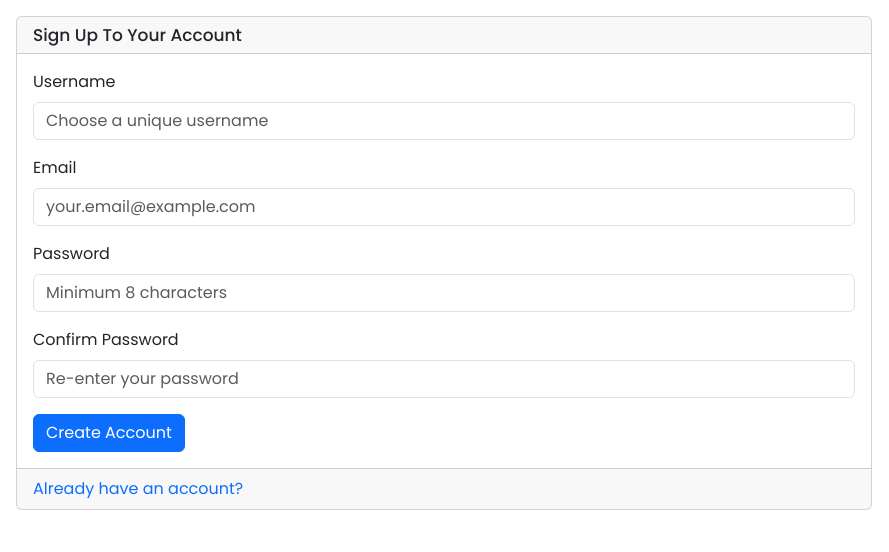
Test: RegisterUser › 🎭 Interactions — Zod validation (onTouched) › shows error when username is shorter than 3 characters
The width and height of the screenshot is (889, 552).
Type "ab" into the field labelled "Username" at [444, 121], box [33, 102, 855, 140]
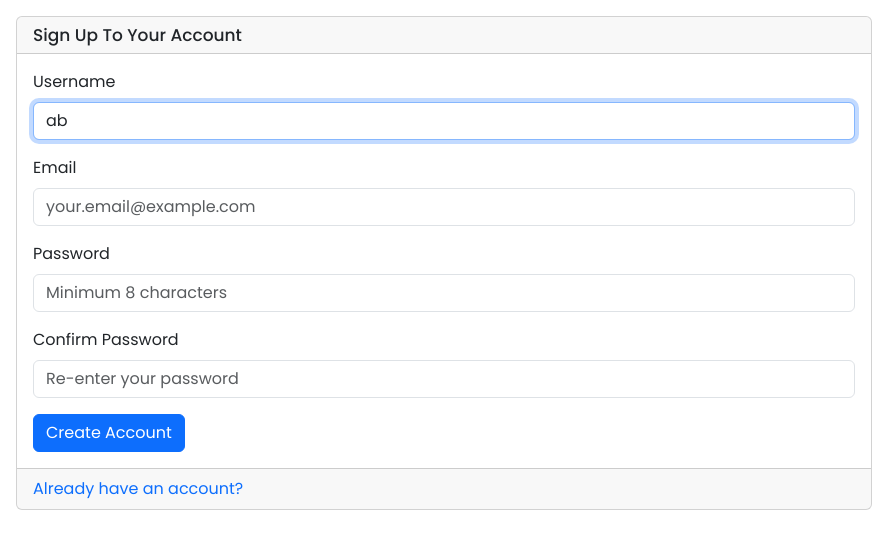
Press Tab
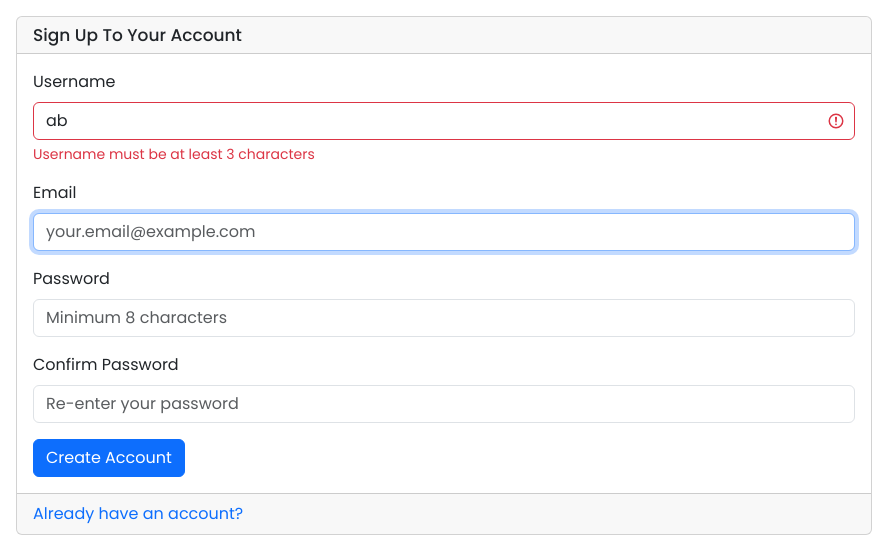
Expected: the text "Username must be at least 3 characters" is shown, [33, 144, 315, 164]
